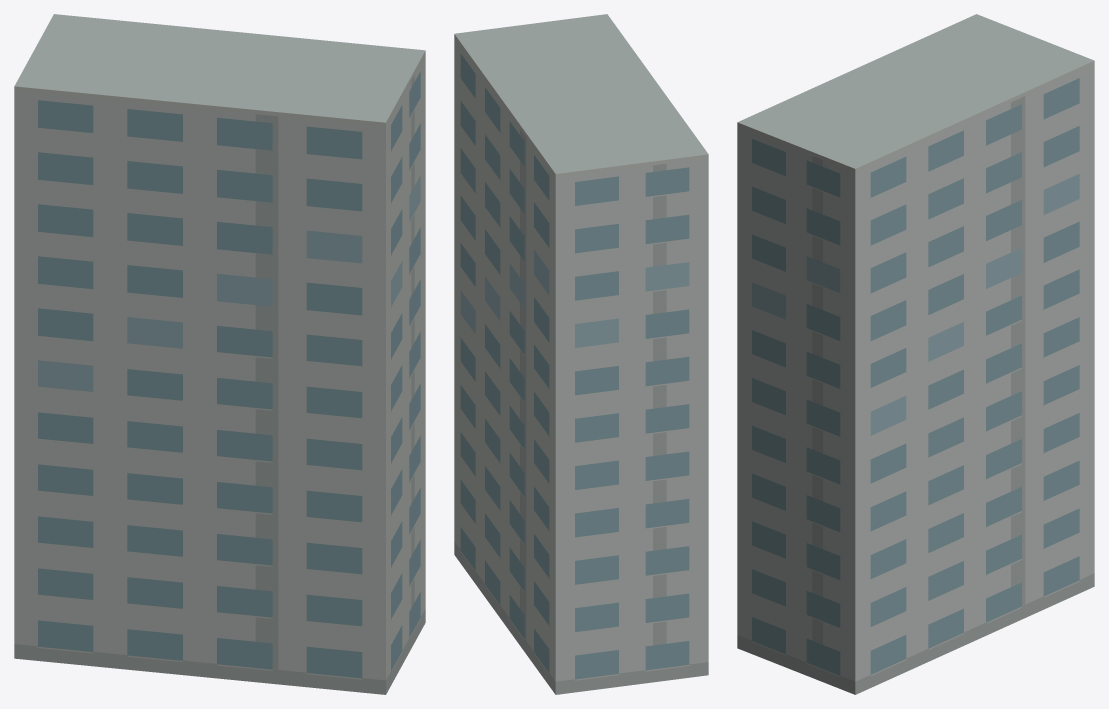
The model's file is residential-95523c31-a48b-4504-95b3-65303cbd2ab2.glb.
The picture shows the model from 3 angles, left to right: view 1: azimuth 30°, elevation 25°; view 2: azimuth 150°, elevation 25°; view 3: azimuth 270°, elevation 25°; orthographic projection. The views are drawn at different scales.
Parts seen in each view (by area): view 1: residential-95523c31-a48b-4504-95b3-65303cbd2ab2.tmp; view 2: residential-95523c31-a48b-4504-95b3-65303cbd2ab2.tmp; view 3: residential-95523c31-a48b-4504-95b3-65303cbd2ab2.tmp.
Part boxes in pixels (x1,y1,x2,y2): residential-95523c31-a48b-4504-95b3-65303cbd2ab2.tmp: (14,14,425,694); residential-95523c31-a48b-4504-95b3-65303cbd2ab2.tmp: (454,14,708,694); residential-95523c31-a48b-4504-95b3-65303cbd2ab2.tmp: (737,14,1094,694).
Bounding box in the file's own units: 20.85 × 33 × 20.32.
